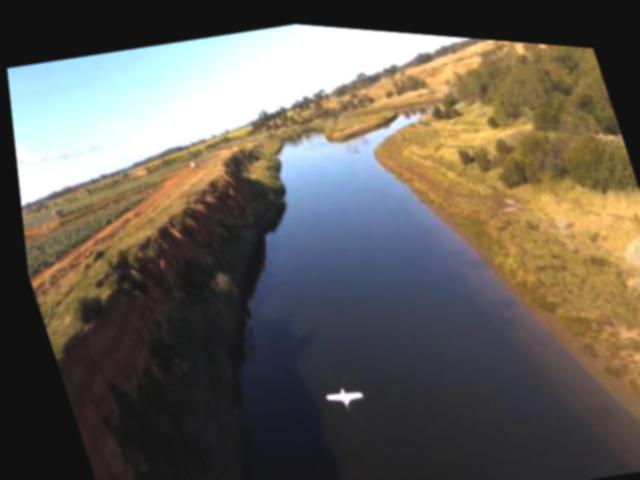uav: (312, 372, 361, 414)
